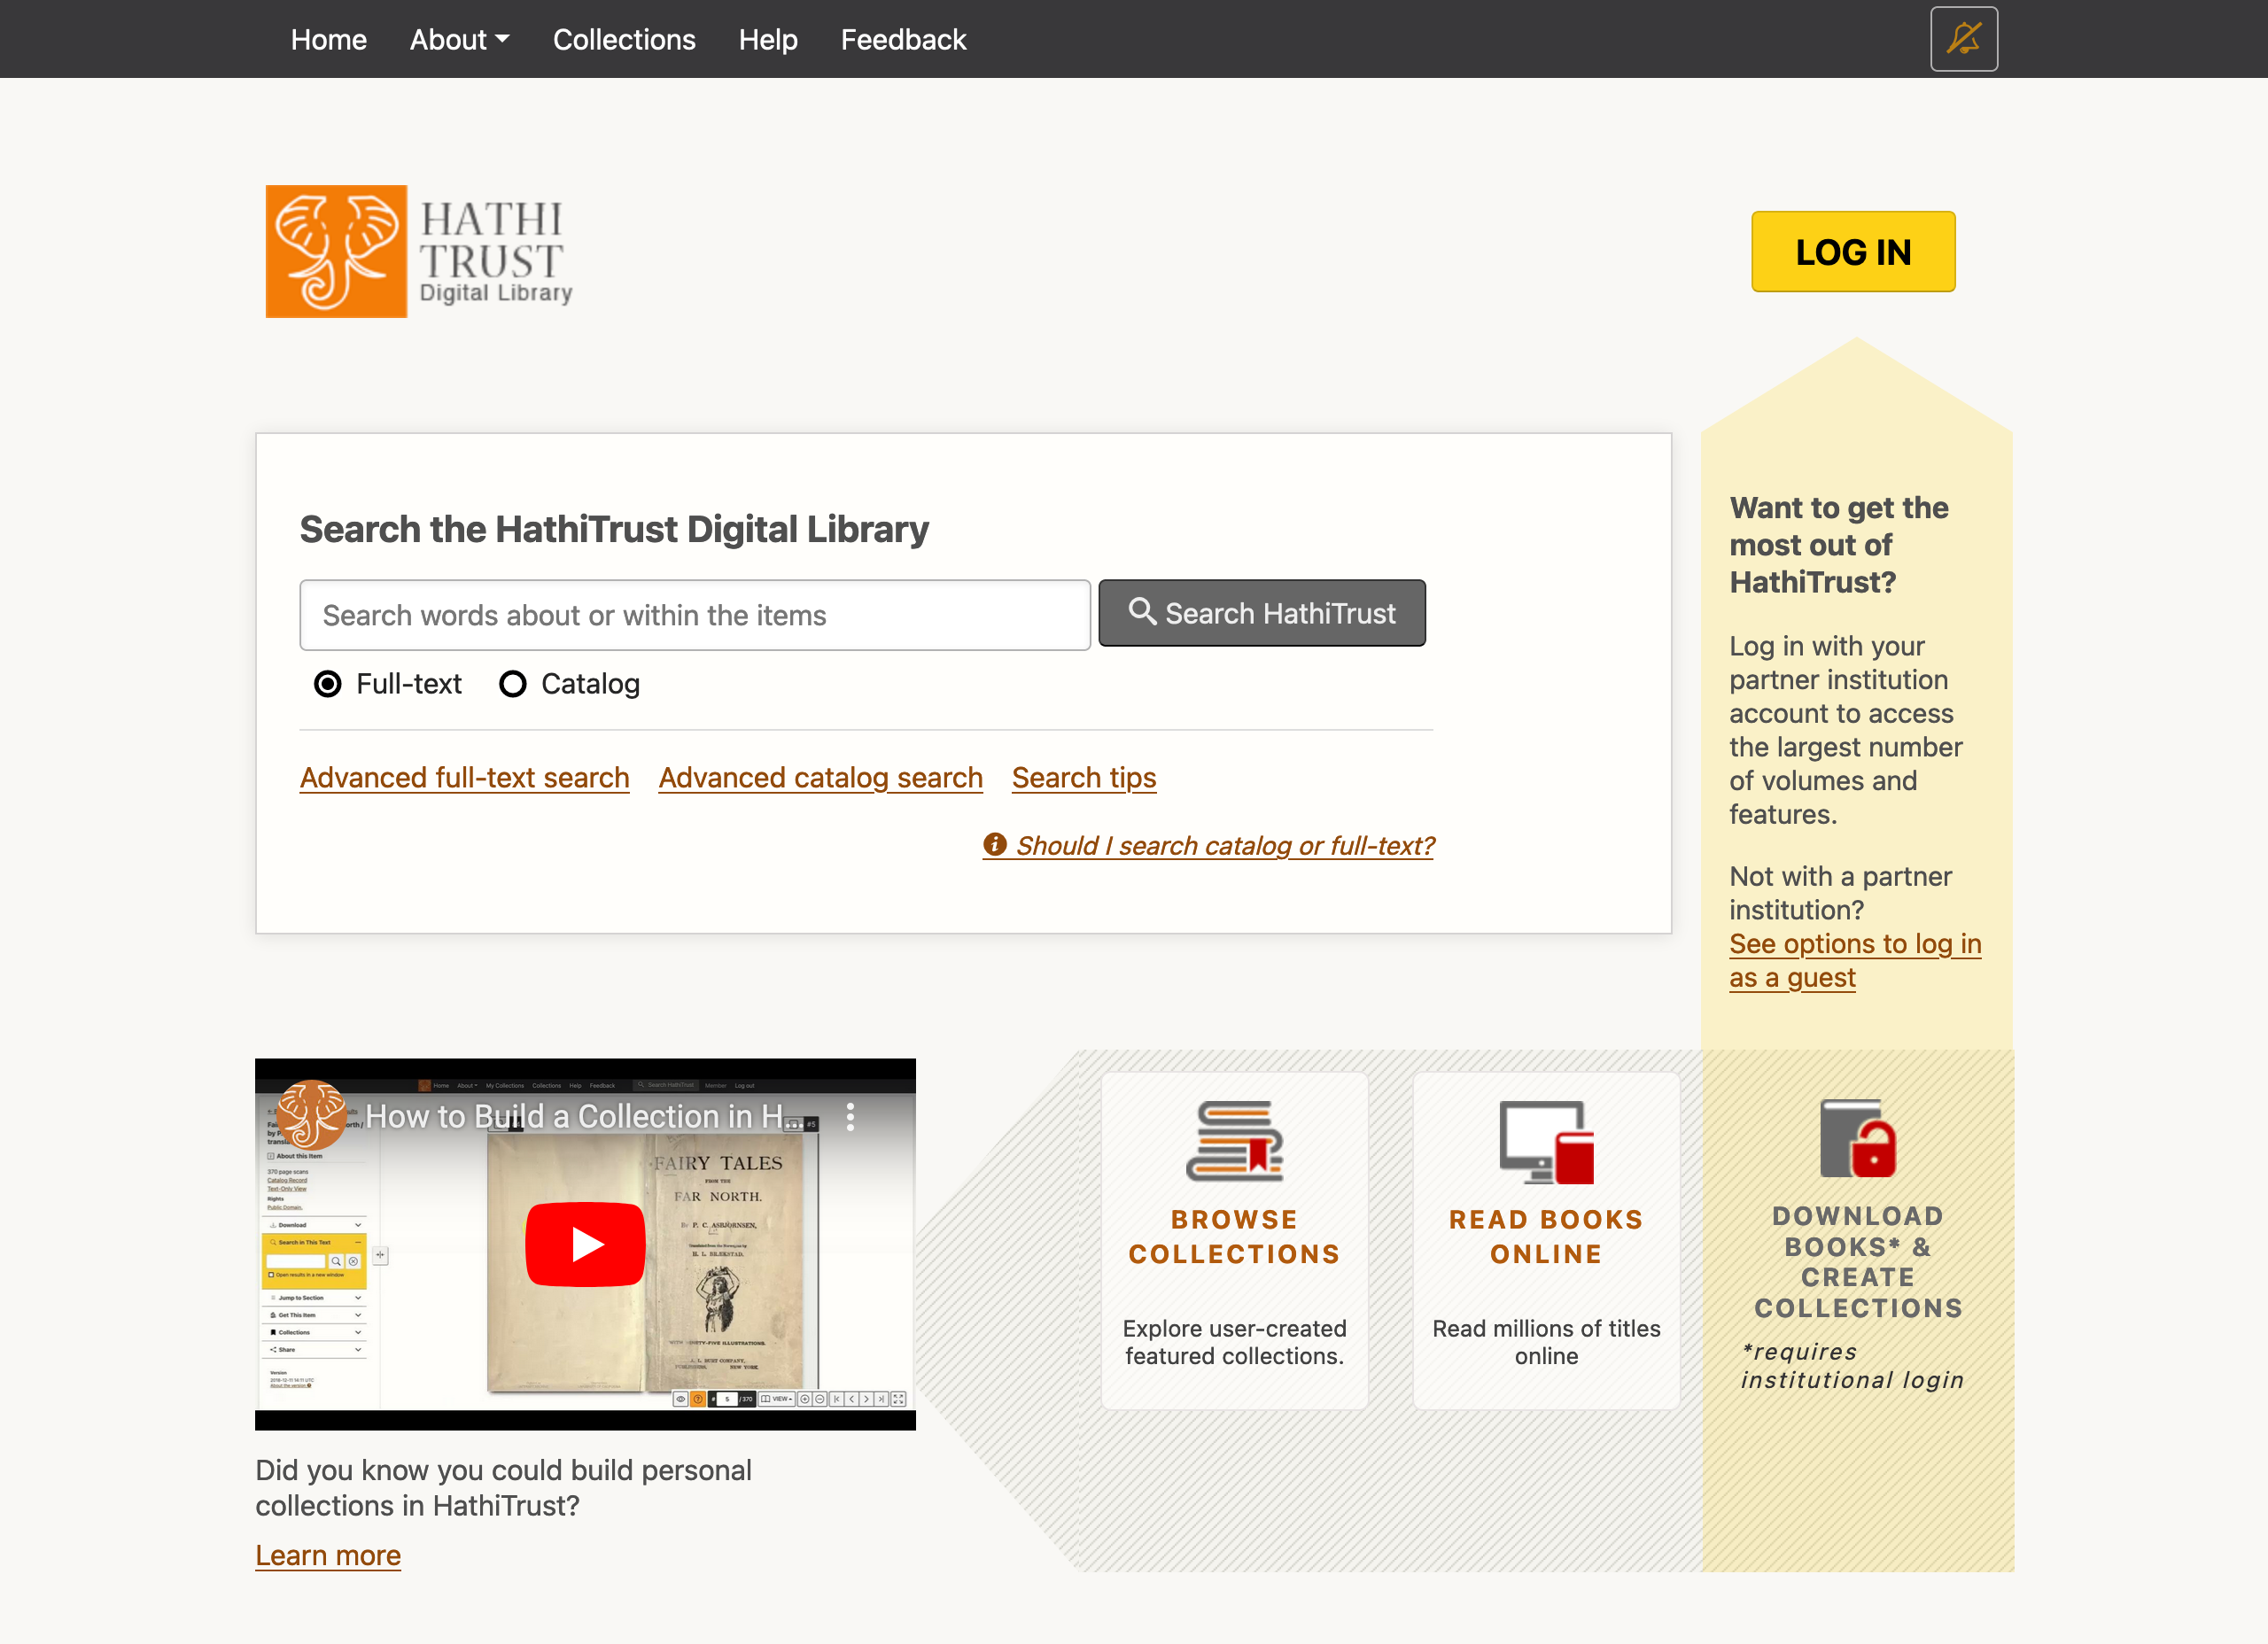Login: (1719, 174, 1990, 319)
